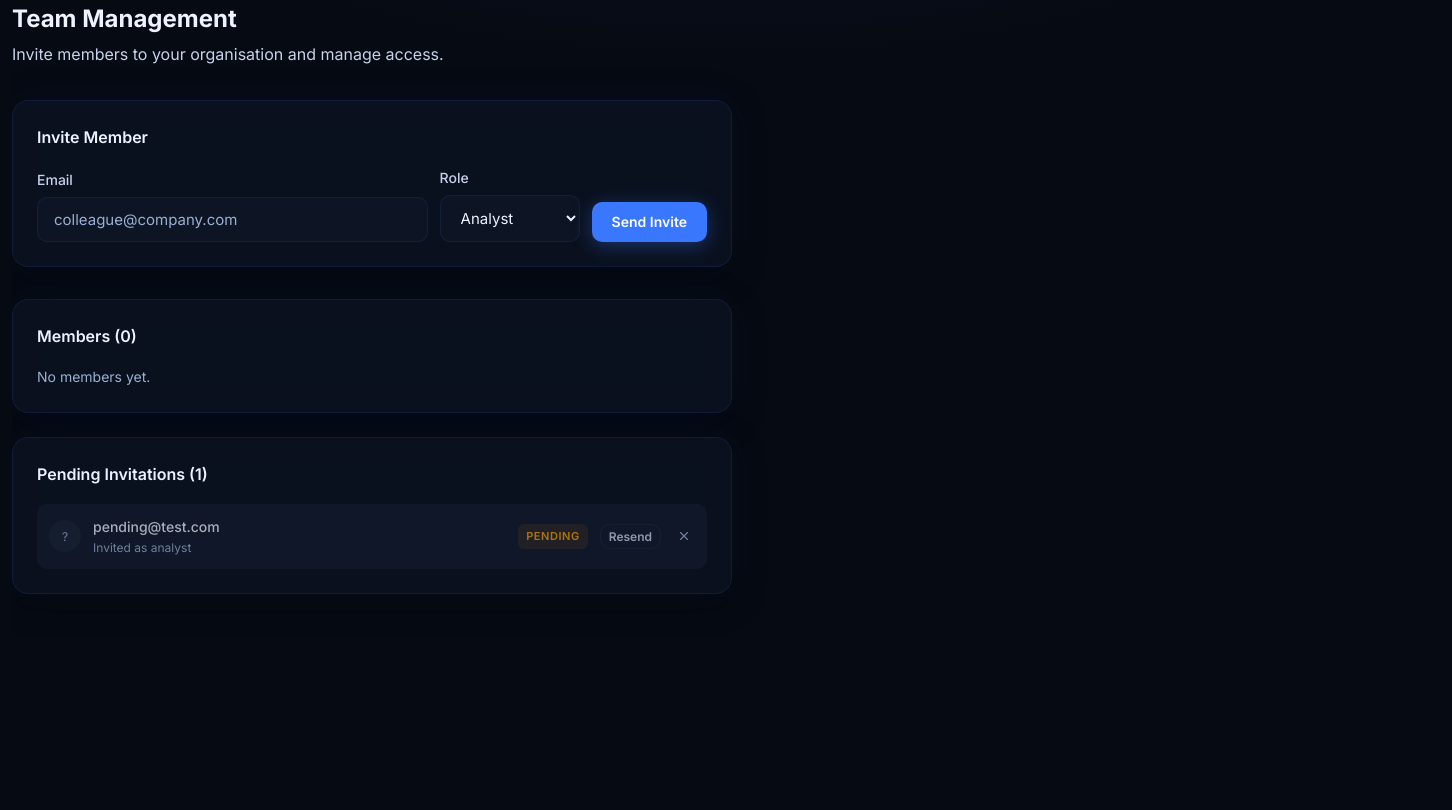
TeamView › revoke invitation (toast.undo) › restores the row on DELETE failure
Click the button named "Revoke invitation for pending@test.com" at [684, 536], box [673,525,695,547]
Wait 5000 ms
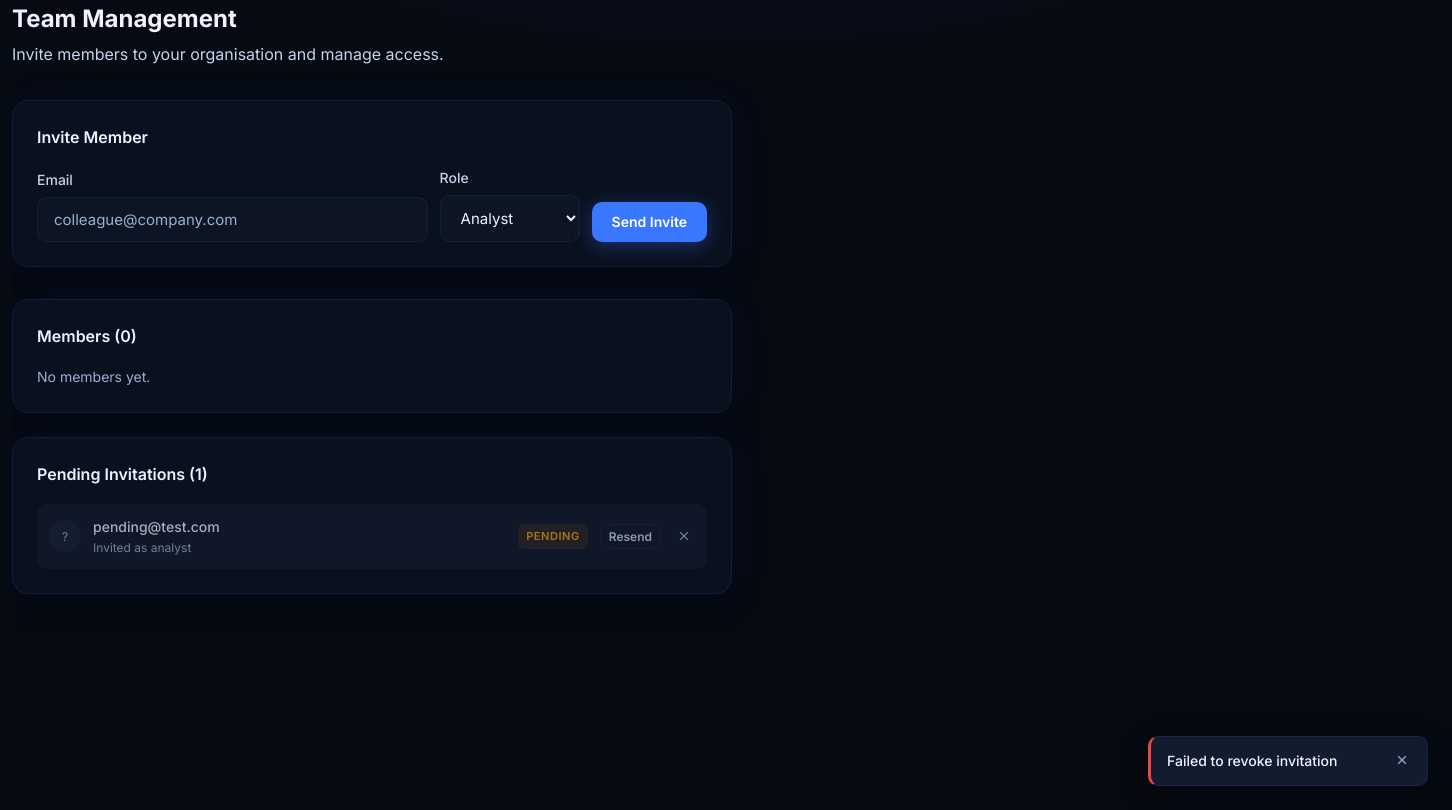
expect the text "pending@test.com" is shown: met, box [93,518,220,534]
expect the text "Failed to revoke invitation" is shown: met, box [1167,752,1338,769]
